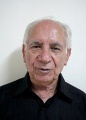male: (20, 22, 72, 93)
